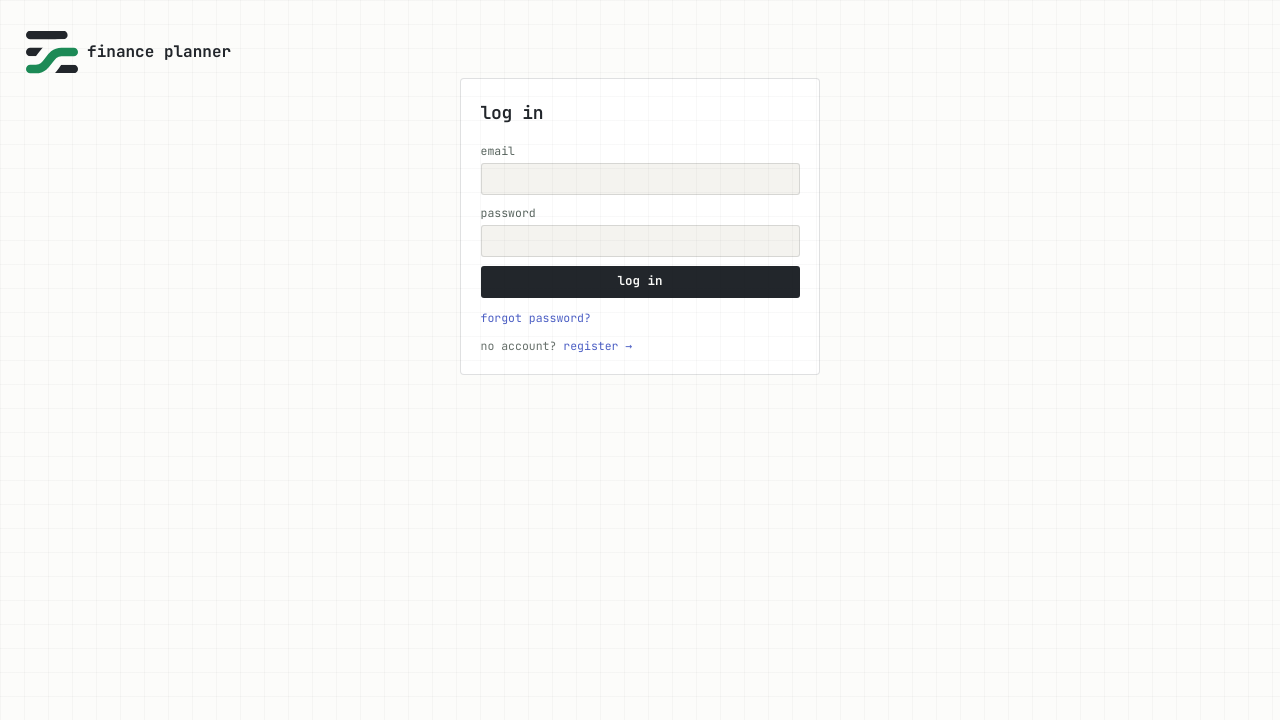
Test: LoginPage — password login › shows an error when the credentials are rejected
The image size is (1280, 720).
In the field labelled "email": (640, 179) [480, 163, 800, 195], type "ada@example.com"
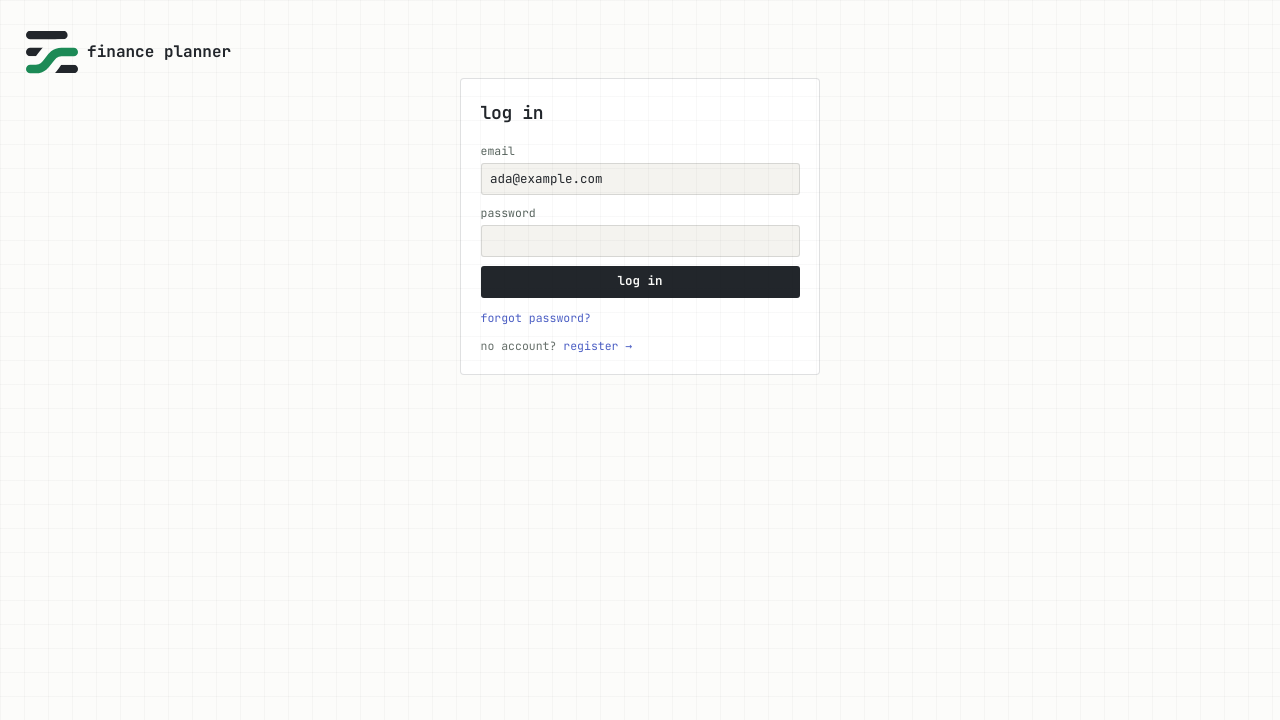
In the password field labelled "password": (640, 241) [480, 225, 800, 257], type "hunter2hunter2"
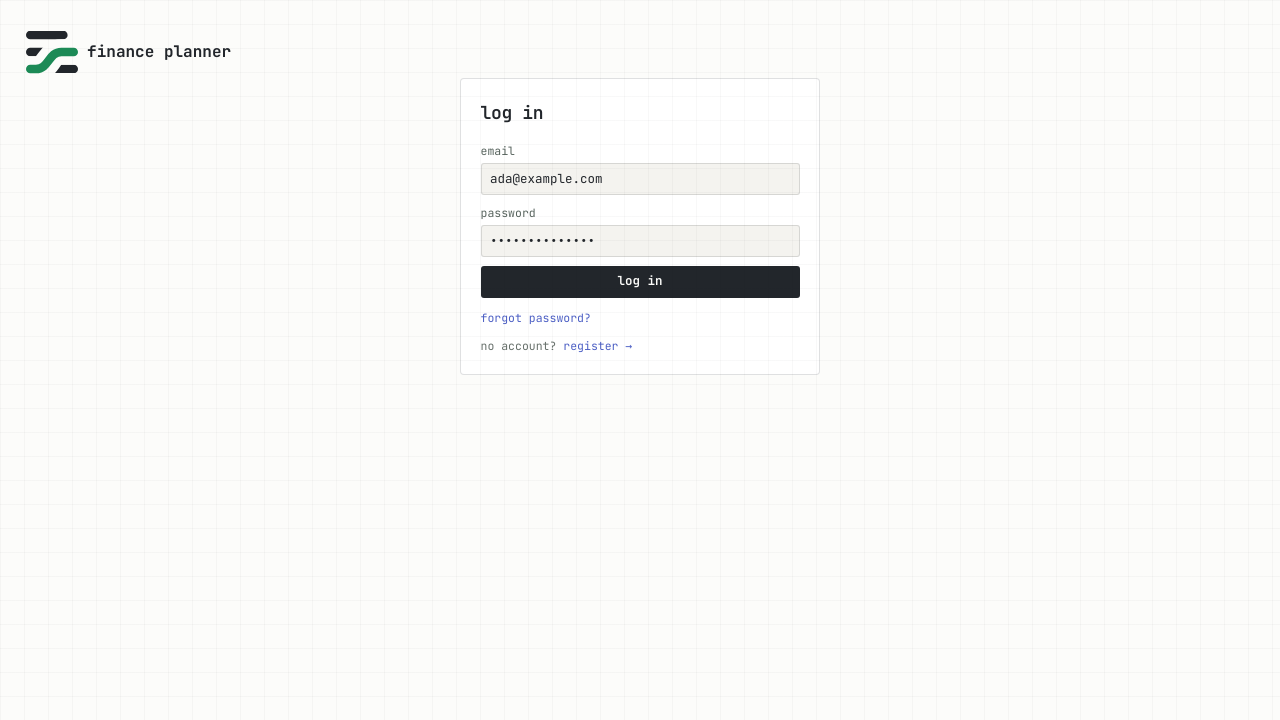
Click the button "log in": click(640, 282) [480, 266, 800, 298]
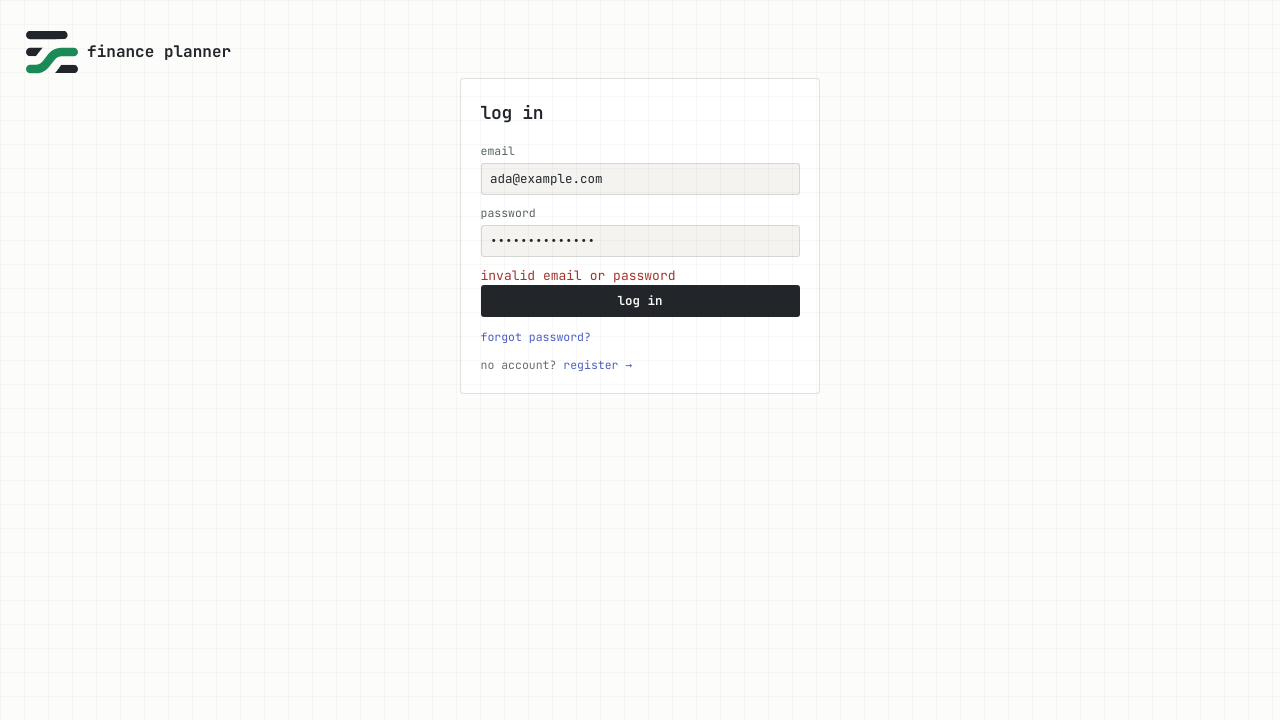
Result: the message reads "invalid email or password" at [480, 267, 676, 284]
